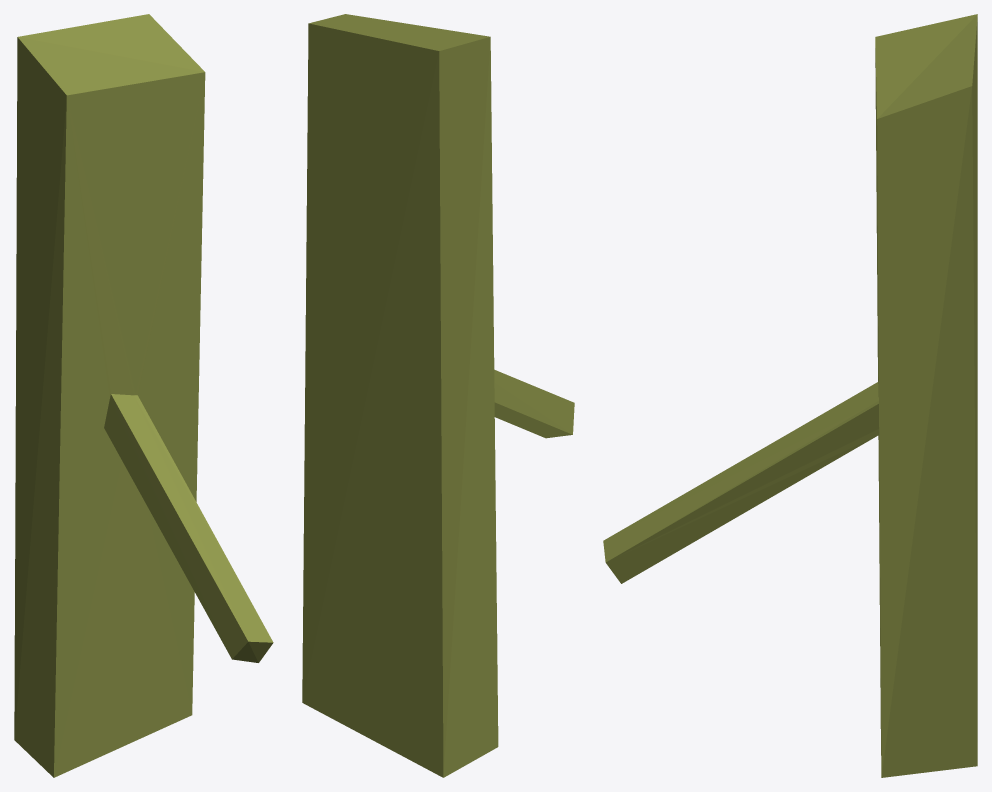
3 renders of one model, left to right at view 1: azimuth 30°, elevation 25°; view 2: azimuth 150°, elevation 25°; view 3: azimuth 270°, elevation 25°, orthographic. The views are drawn at different scales.
Parts seen in each view (by area): view 1: 753_Cube.3029; view 2: 753_Cube.3029; view 3: 753_Cube.3029.
Part boxes in pixels (x1,y1,x2,y2): 753_Cube.3029: (14, 14, 273, 777); 753_Cube.3029: (302, 14, 574, 777); 753_Cube.3029: (603, 14, 977, 777).
Bounding box in the file's own units: 2.85 × 12.82 × 5.97.
